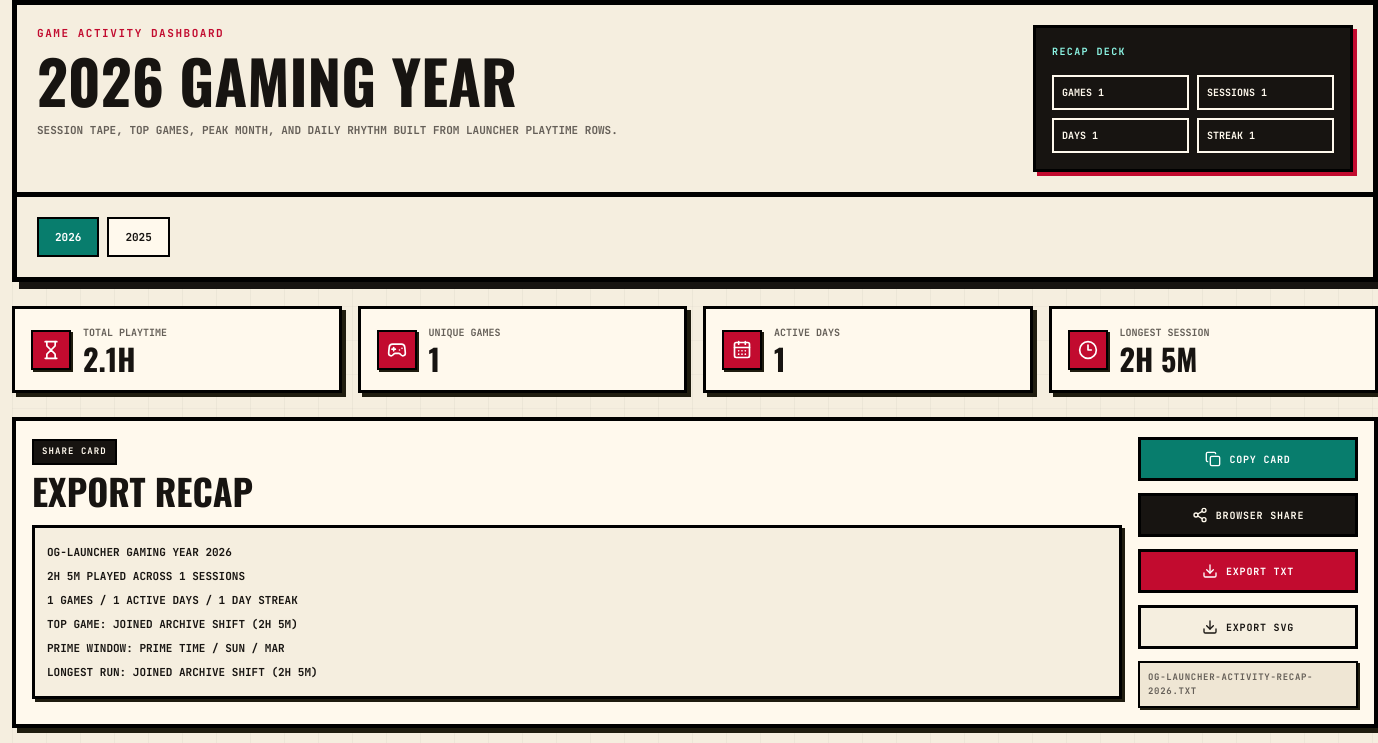
Test: GameActivityDashboardPage › copies the yearly share card text
This screenshot has width=1378, height=743.
Step 1. Click the button "Copy Card" → point(1248, 459), box [1138, 437, 1358, 481]
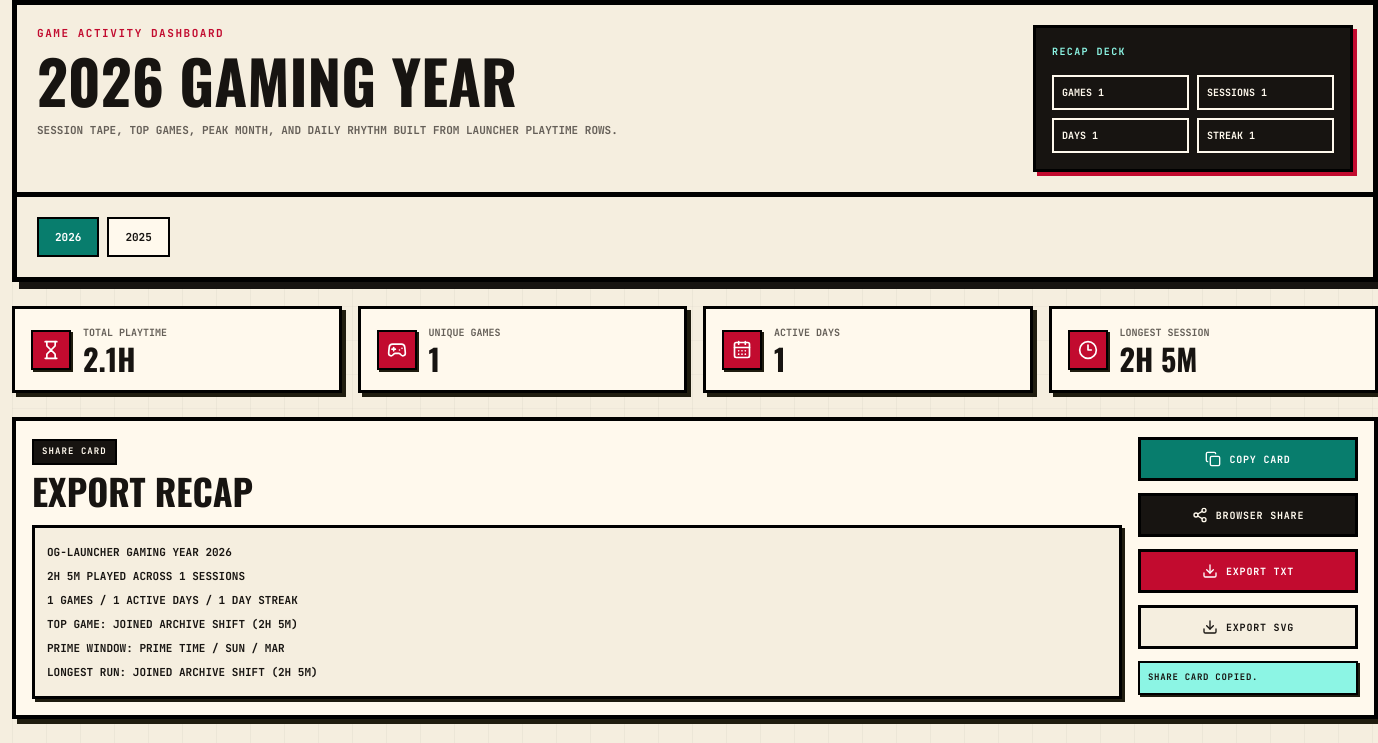
Check: the text "Share card copied." is shown, box [1138, 661, 1358, 694]
